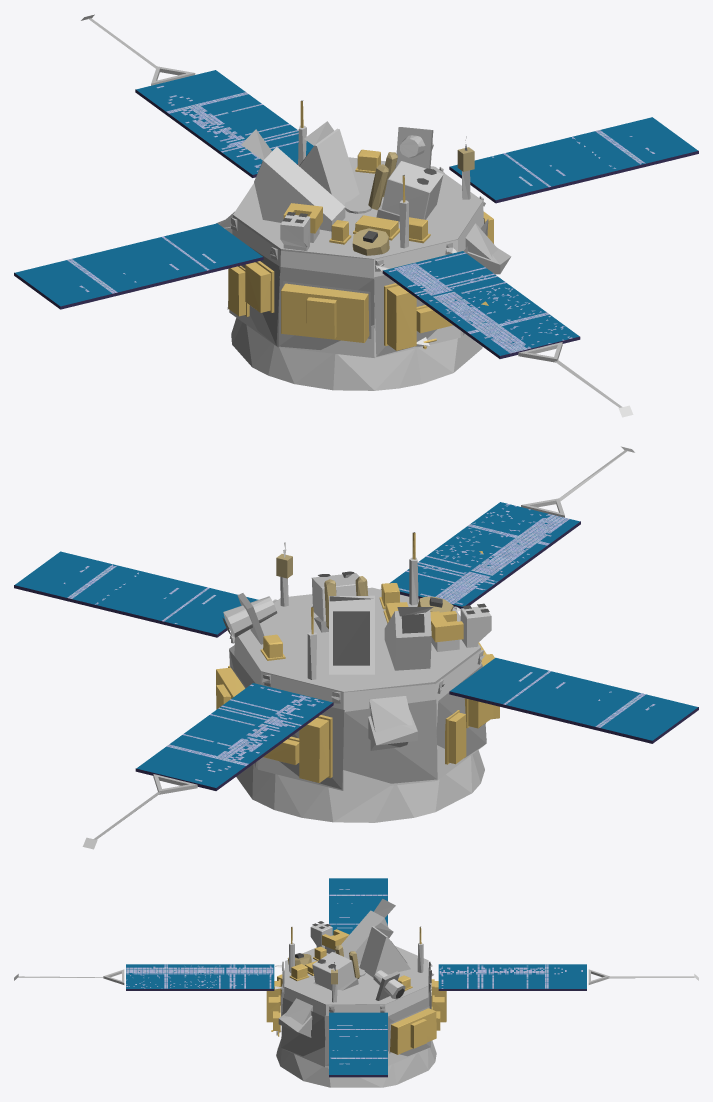
File: ace-preview.glb
3 views of the same model, one above another, from view 1: azimuth 30°, elevation 25°; view 2: azimuth 150°, elevation 25°; view 3: azimuth 270°, elevation 25° (orthographic). The views are drawn at different scales.
Visible parts, largest first — view 1: Layer_0; view 2: Layer_0; view 3: Layer_0.
Part boxes in pixels (<box>): Layer_0: <box>14,14,698,417</box>; Layer_0: <box>14,446,698,849</box>; Layer_0: <box>14,878,698,1087</box>.
Bounding box in the file's own units: 915 × 278 × 1345.
